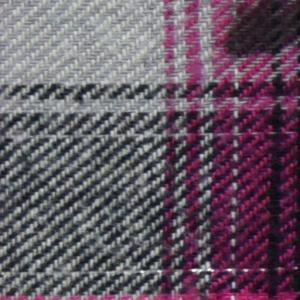Stain: (218, 1, 300, 65)
